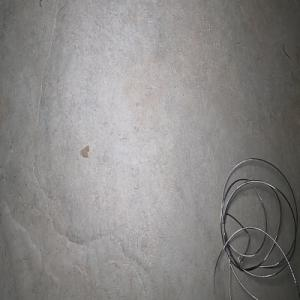Wire: (213, 157, 300, 300)
